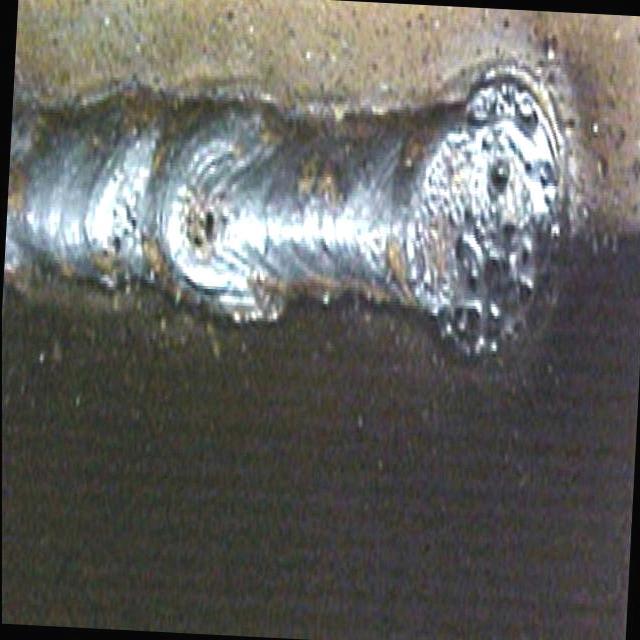defect: (437, 157, 537, 352), (103, 198, 144, 273), (189, 197, 217, 256)
